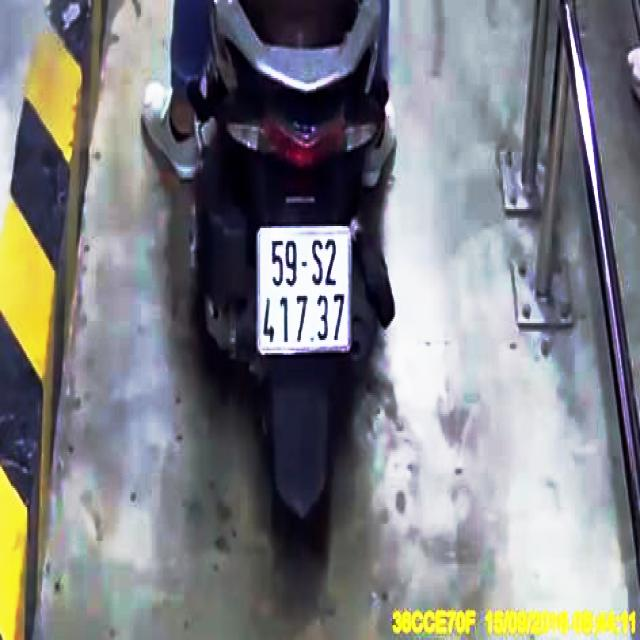license_plate: (260, 228, 354, 353)
